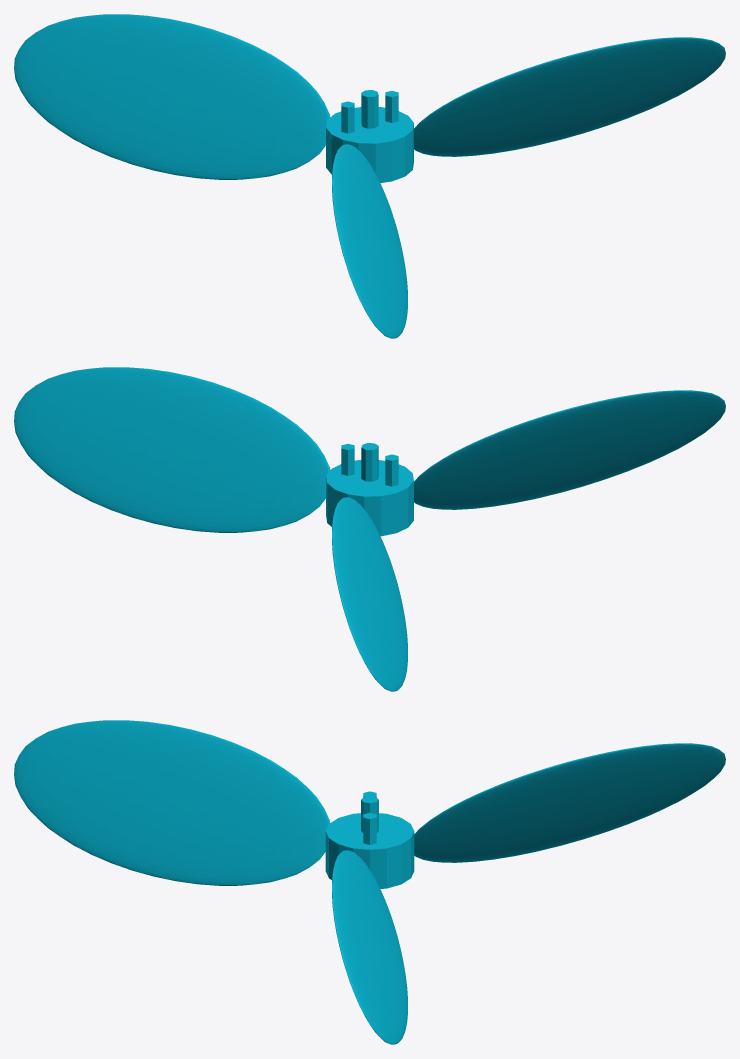
File: prop_mat_plastic_3.glb
3 views of the same model, one above another, from view 1: azimuth 30°, elevation 25°; view 2: azimuth 150°, elevation 25°; view 3: azimuth 270°, elevation 25° (orthographic).
Visible parts, largest first — view 1: geometry_0; view 2: geometry_0; view 3: geometry_0.
Boxes of the visible parts, x1,y1,x2,y2 form: geometry_0: [14, 14, 725, 338]; geometry_0: [14, 367, 725, 691]; geometry_0: [14, 720, 725, 1044].
Size of the model in its own units: 0.049 by 0.0104 by 0.0562.
